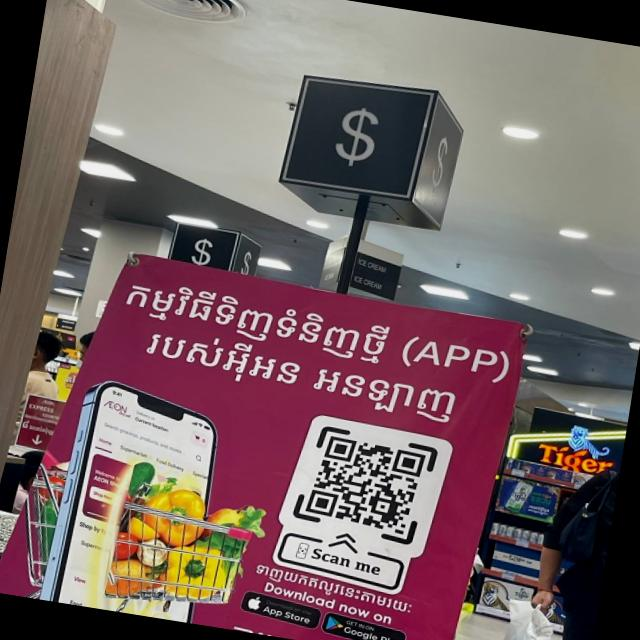1: (140, 321, 461, 425)
Yolov11_80vkh: (120, 269, 400, 371)
